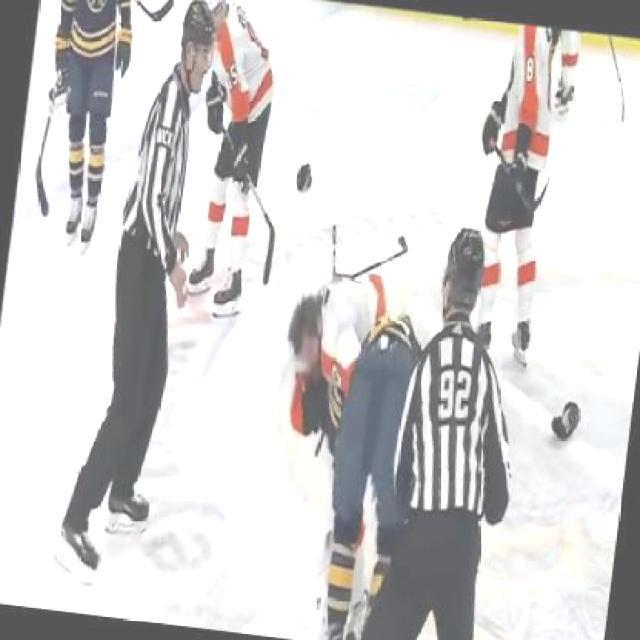fight: (251, 252, 454, 638)
